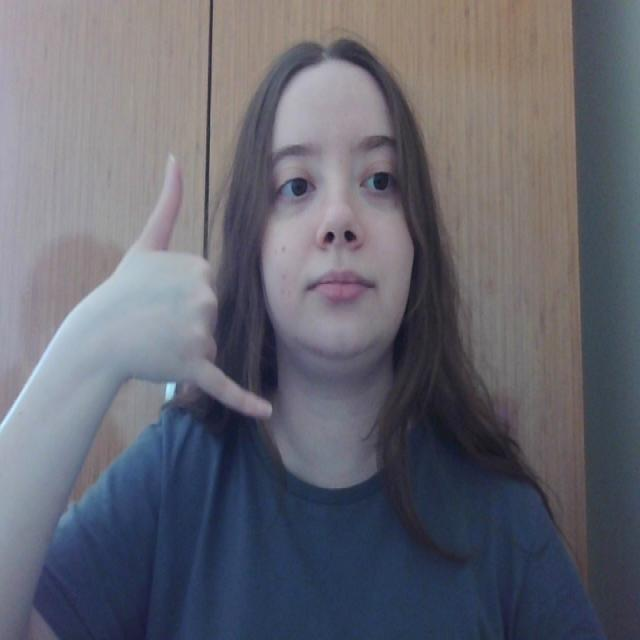Telefon: (133, 150, 276, 422)
